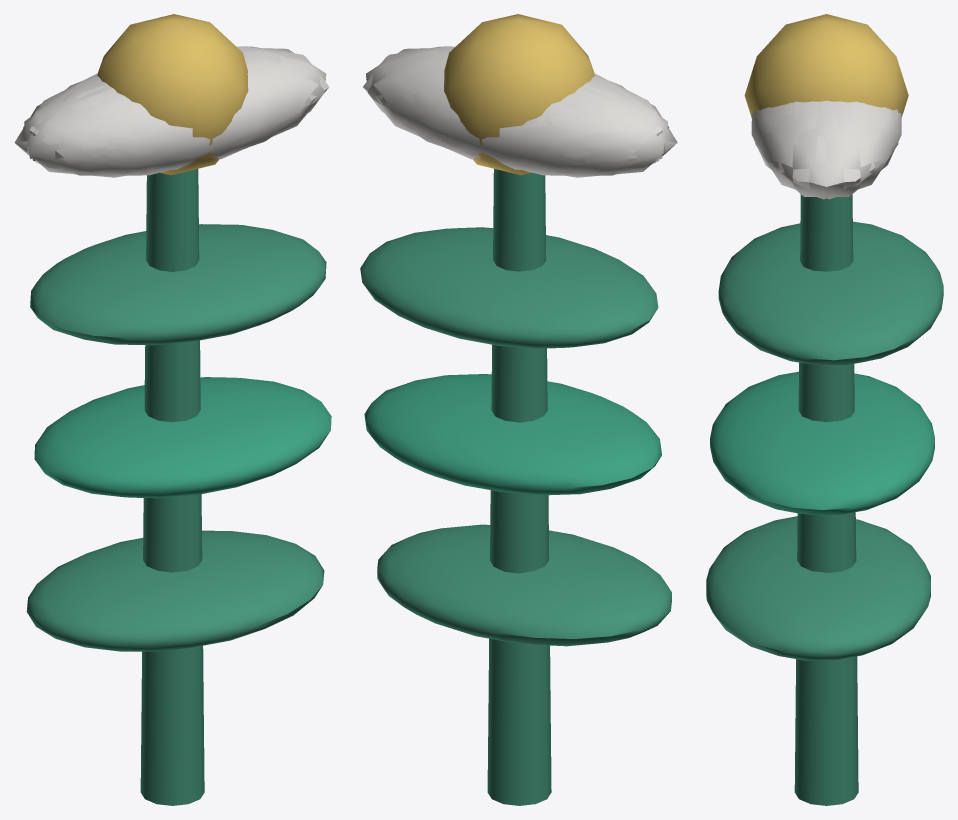
Rendered from ruellia-blechum.glb.
The picture shows the model from 3 angles, left to right: view 1: azimuth 30°, elevation 25°; view 2: azimuth 150°, elevation 25°; view 3: azimuth 270°, elevation 25°; orthographic projection.
Visible parts, largest first — view 1: leaf0, leaf1, leaf2, stem, center, petal6, petal2, petal1, petal5, petal7, petal0; view 2: leaf2, leaf1, leaf0, stem, center, petal3, petal7, petal8, petal4, petal2, petal0; view 3: leaf2, leaf1, leaf0, stem, center, petal0, petal4, petal5, petal8, petal1.
Part boxes in pixels (x1=…): leaf0: x1=26, y1=530, x2=324, y2=651; leaf1: x1=34, y1=377, x2=331, y2=498; leaf2: x1=30, y1=224, x2=326, y2=345; stem: x1=140, y1=169, x2=204, y2=805; center: x1=97, y1=14, x2=248, y2=175; petal6: x1=32, y1=87, x2=234, y2=175; petal2: x1=24, y1=81, x2=179, y2=177; petal1: x1=103, y1=65, x2=311, y2=173; petal5: x1=168, y1=55, x2=328, y2=165; petal7: x1=14, y1=76, x2=116, y2=168; petal0: x1=241, y1=48, x2=326, y2=148; leaf2: x1=360, y1=227, x2=658, y2=348; leaf1: x1=364, y1=374, x2=661, y2=495; leaf0: x1=377, y1=524, x2=671, y2=646; stem: x1=487, y1=169, x2=551, y2=805; center: x1=444, y1=14, x2=594, y2=175; petal3: x1=458, y1=87, x2=659, y2=175; petal7: x1=512, y1=81, x2=667, y2=177; petal8: x1=381, y1=65, x2=588, y2=173; petal4: x1=363, y1=55, x2=524, y2=165; petal2: x1=575, y1=76, x2=677, y2=168; petal0: x1=366, y1=48, x2=450, y2=148; leaf2: x1=718, y1=221, x2=943, y2=365; leaf1: x1=710, y1=371, x2=934, y2=515; leaf0: x1=706, y1=516, x2=930, y2=660; stem: x1=794, y1=194, x2=858, y2=805; center: x1=744, y1=14, x2=908, y2=115; petal0: x1=766, y1=100, x2=887, y2=196; petal4: x1=814, y1=101, x2=898, y2=199; petal5: x1=755, y1=101, x2=838, y2=199; petal8: x1=850, y1=101, x2=901, y2=170; petal1: x1=751, y1=101, x2=802, y2=170.
Size of the model in its own units: 0.1541 by 0.3733 by 0.1041.
